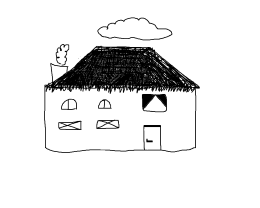closed_window: (91, 115, 125, 133), (55, 95, 86, 114), (55, 117, 84, 136), (93, 96, 119, 112)
clouds: (94, 7, 178, 43)
door: (138, 121, 170, 157)
open_window: (140, 90, 173, 116)
shaded_roof: (40, 40, 202, 96)
smoking_chimney: (48, 32, 75, 83)
wall: (38, 88, 203, 158)
